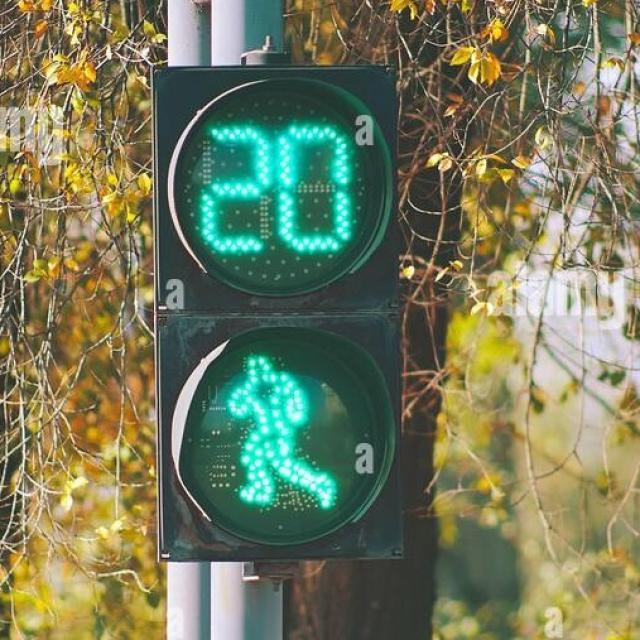geen-crossing: (208, 342, 340, 519)
